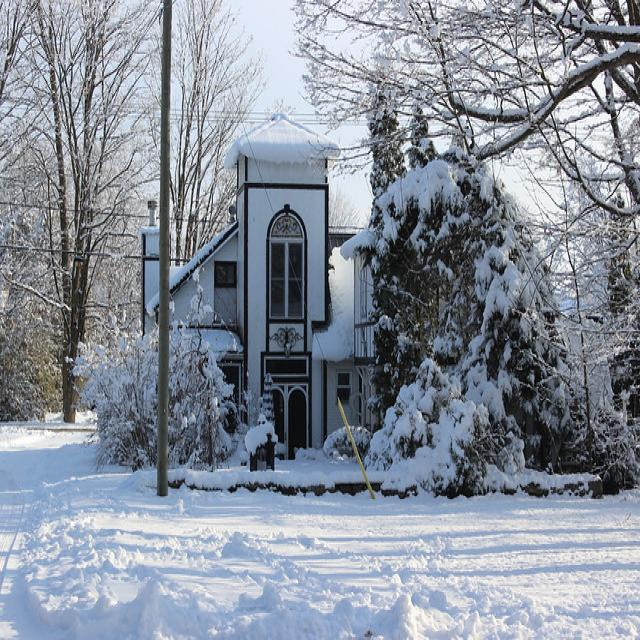Normal_building: (138, 109, 406, 485)
